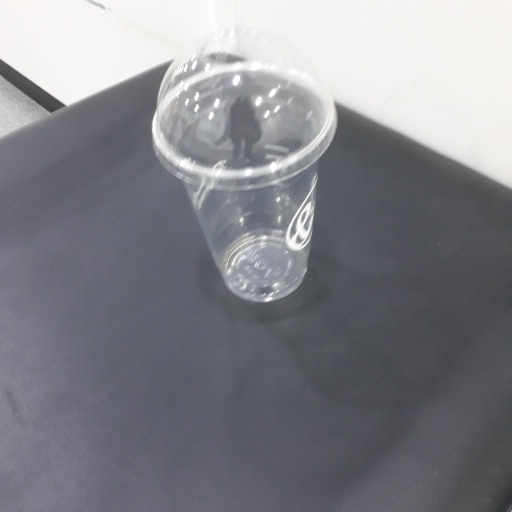Plastic_2: (150, 21, 345, 303)
